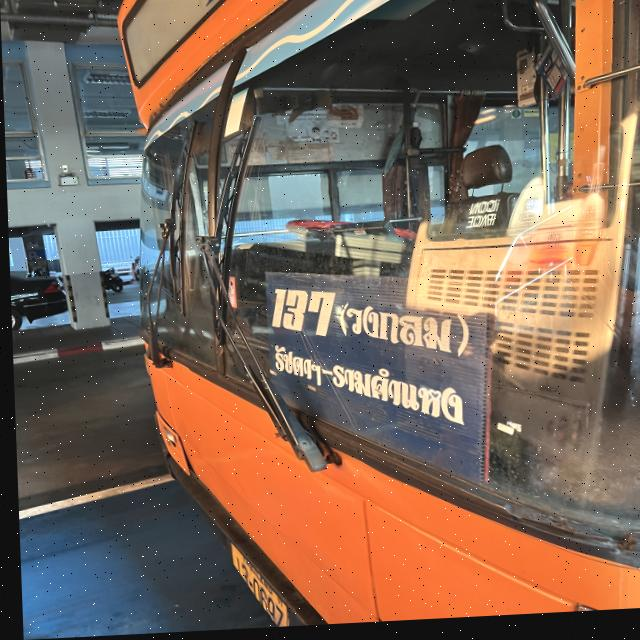BMTA-bus: (120, 0, 640, 625)
Destination Sign: (259, 279, 481, 498)
